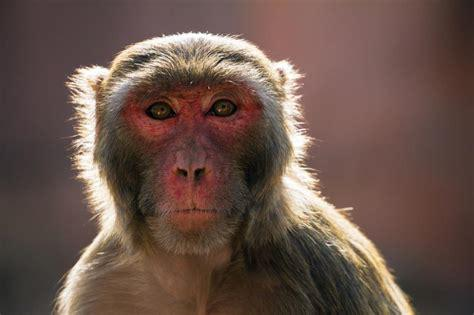monkey: (59, 33, 409, 315)
